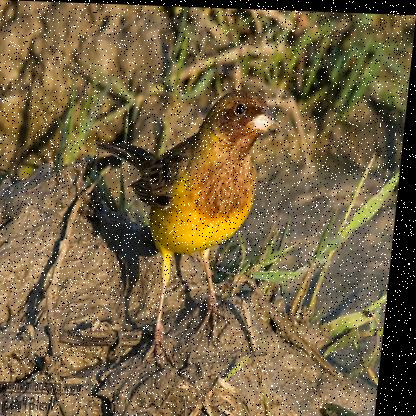Burung: (85, 86, 285, 340)
